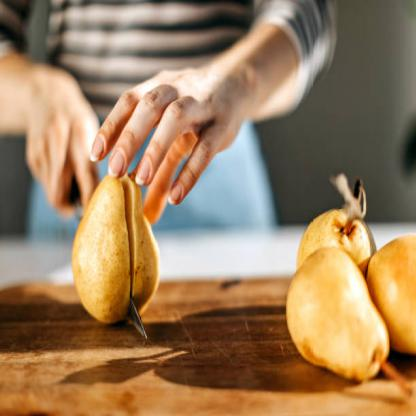Paer: (280, 249, 394, 377)
